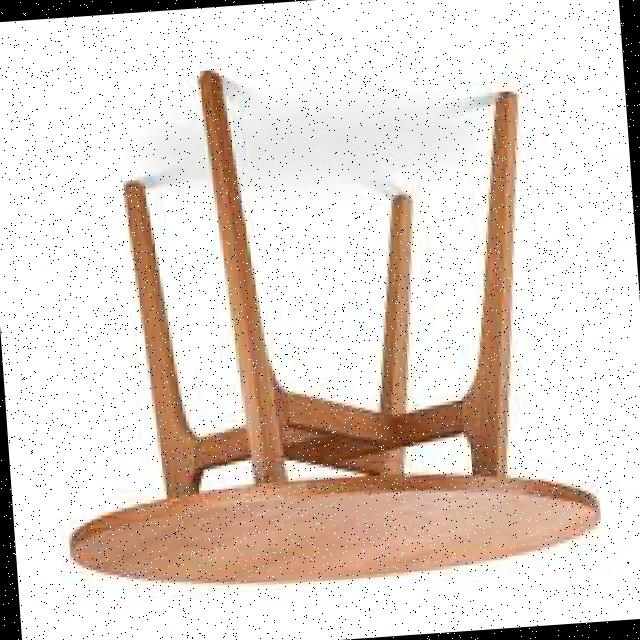Table: (0, 0, 630, 622)
